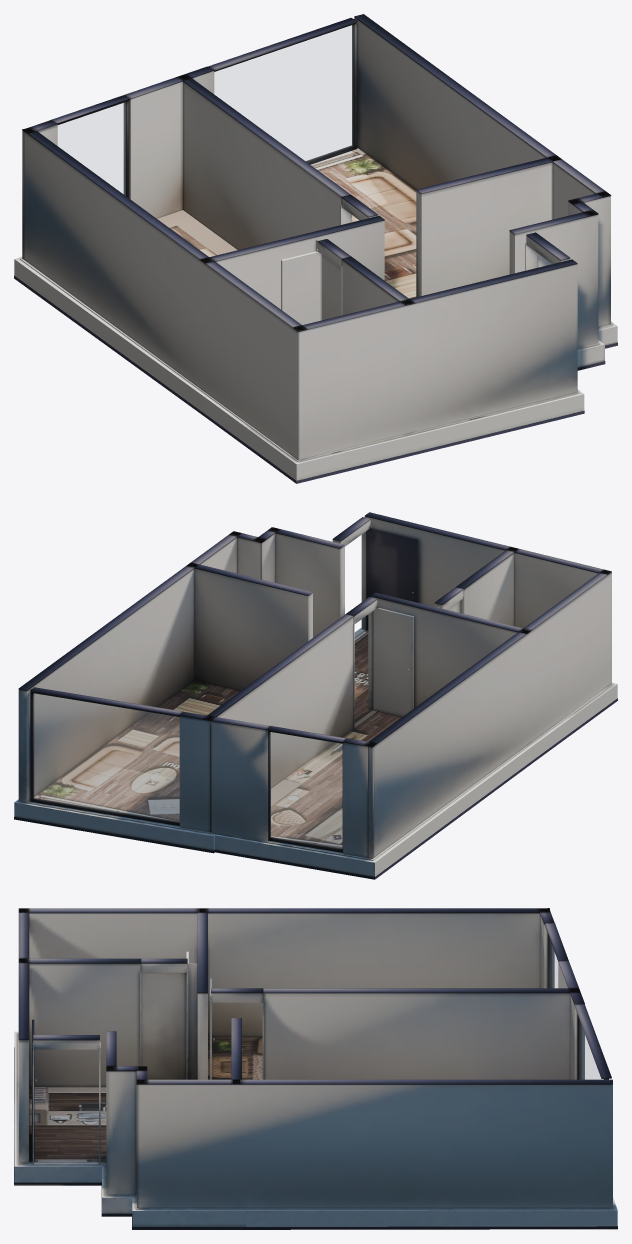
3 renders of one model, top to bottom at view 1: azimuth 30°, elevation 25°; view 2: azimuth 150°, elevation 25°; view 3: azimuth 270°, elevation 25°, orthographic. The views are drawn at different scales.
Parts seen in each view (by area): view 1: plan, glass1_m, glass0_m; view 2: plan, glass1_m, glass0_m; view 3: plan, glass1_m.
Part boxes in pixels (x1,y1,x2,y2): plan: [14, 14, 617, 483]; glass1_m: [214, 25, 352, 161]; glass0_m: [58, 102, 125, 195]; plan: [14, 512, 617, 879]; glass1_m: [34, 693, 179, 822]; glass0_m: [270, 732, 342, 848]; plan: [14, 908, 617, 1229]; glass1_m: [579, 1020, 603, 1079].
Size of the model in its own units: 7.05 by 2.62 by 9.97.
Materials: 2 (1 with a texture image).
